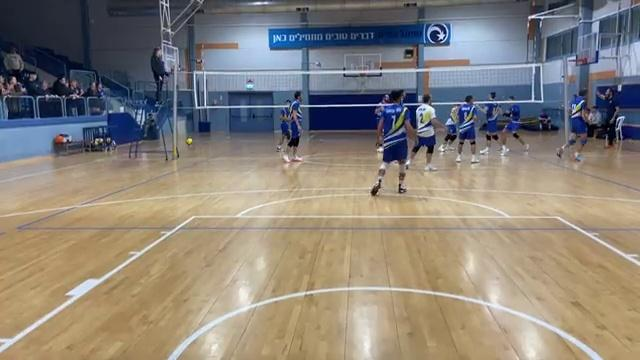ball: (182, 135, 197, 148)
